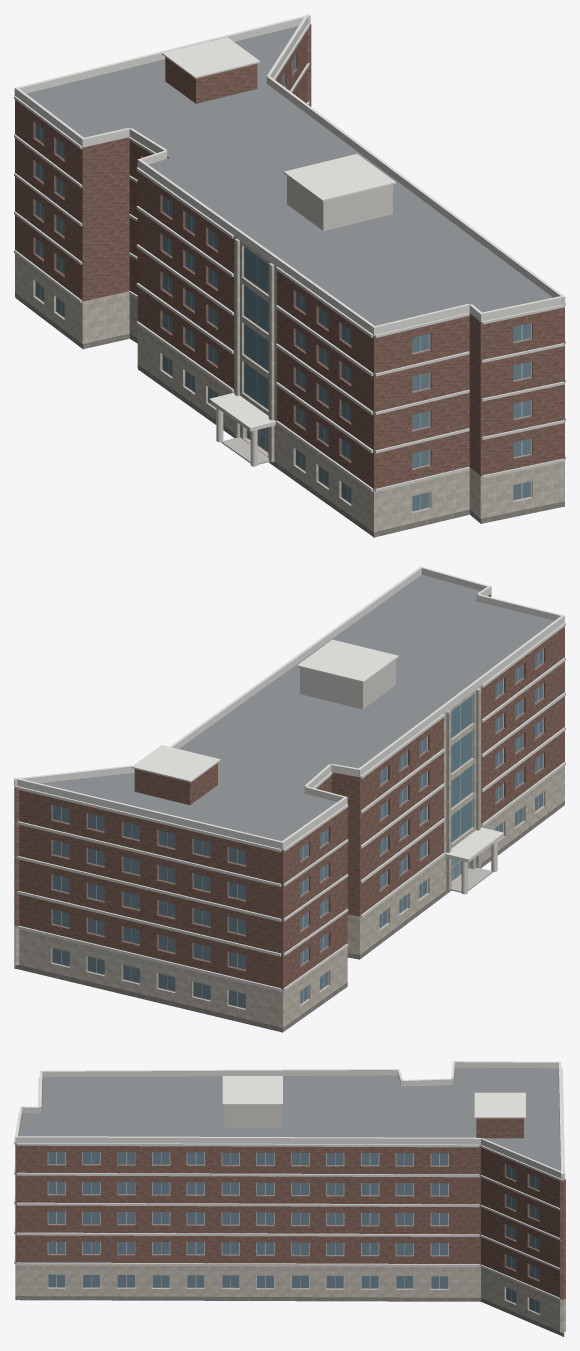
The picture shows the model from 3 angles, top to bottom: view 1: azimuth 30°, elevation 25°; view 2: azimuth 150°, elevation 25°; view 3: azimuth 270°, elevation 25°; orthographic projection. The views are drawn at different scales.
Parts seen in each view (by area): view 1: yeji__brick, yeji__roof, yeji__stone, yeji__cap, yeji__trim, yeji__glass, yeji__core, yeji__curtainglass, yeji__frame, yeji__plinth, yeji__foundation; view 2: yeji__brick, yeji__roof, yeji__stone, yeji__cap, yeji__glass, yeji__trim, yeji__frame, yeji__core, yeji__curtainglass, yeji__plinth, yeji__foundation; view 3: yeji__brick, yeji__roof, yeji__glass, yeji__stone, yeji__cap, yeji__trim, yeji__frame, yeji__plinth, yeji__core, yeji__foundation.
Part boxes in pixels (x1,y1,x2,y2): yeji__brick: [15, 24, 564, 489]; yeji__roof: [26, 26, 552, 325]; yeji__stone: [15, 237, 564, 532]; yeji__cap: [14, 14, 565, 429]; yeji__trim: [14, 23, 565, 491]; yeji__glass: [35, 56, 530, 511]; yeji__core: [287, 176, 392, 230]; yeji__curtainglass: [244, 247, 268, 409]; yeji__frame: [35, 55, 531, 511]; yeji__plinth: [15, 293, 564, 536]; yeji__foundation: [15, 297, 564, 537]; yeji__brick: [14, 594, 564, 989]; yeji__roof: [40, 574, 554, 841]; yeji__stone: [14, 686, 564, 1027]; yeji__cap: [14, 566, 564, 860]; yeji__glass: [52, 649, 542, 1008]; yeji__trim: [14, 622, 565, 991]; yeji__frame: [52, 649, 543, 1008]; yeji__core: [300, 659, 395, 709]; yeji__curtainglass: [451, 696, 472, 842]; yeji__plinth: [15, 801, 564, 1031]; yeji__foundation: [14, 804, 564, 1032]; yeji__brick: [15, 1068, 565, 1299]; yeji__roof: [19, 1067, 560, 1170]; yeji__glass: [48, 1152, 539, 1312]; yeji__stone: [15, 1263, 565, 1332]; yeji__cap: [15, 1061, 565, 1180]; yeji__trim: [14, 1068, 564, 1301]; yeji__frame: [47, 1152, 539, 1313]; yeji__plinth: [15, 1296, 562, 1334]; yeji__core: [224, 1105, 281, 1128]; yeji__foundation: [15, 1296, 564, 1336].
Size of the model in its own units: 29.52 by 22.02 by 60.24.
Materials: 16 (5 with a texture image).
